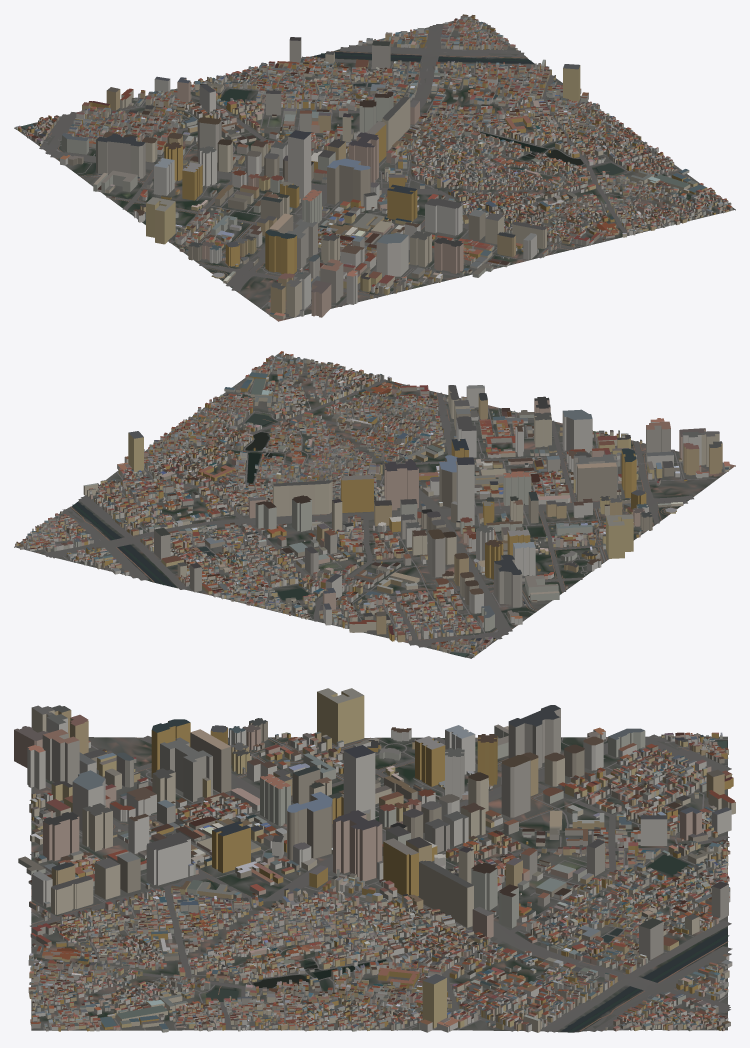
3 views of the same model, one above another, from view 1: azimuth 30°, elevation 25°; view 2: azimuth 150°, elevation 25°; view 3: azimuth 270°, elevation 25° (orthographic). The views are drawn at different scales.
Parts seen in each view (by area): view 1: buildings, ground, roads, water; view 2: buildings, ground, roads, water; view 3: buildings, ground, roads, water.
Part boxes in pixels (bbox=[...]): buildings: bbox=[15, 14, 732, 319]; ground: bbox=[14, 16, 735, 321]; roads: bbox=[20, 20, 729, 318]; water: bbox=[21, 52, 624, 308]; buildings: bbox=[15, 351, 730, 657]; ground: bbox=[14, 353, 735, 658]; roads: bbox=[16, 356, 725, 657]; water: bbox=[72, 413, 713, 656]; buildings: bbox=[14, 688, 735, 1032]; ground: bbox=[31, 736, 727, 1032]; roads: bbox=[29, 734, 732, 1032]; water: bbox=[206, 741, 729, 1032].
Bounding box in the file's own units: 1443 × 182 × 1453.
